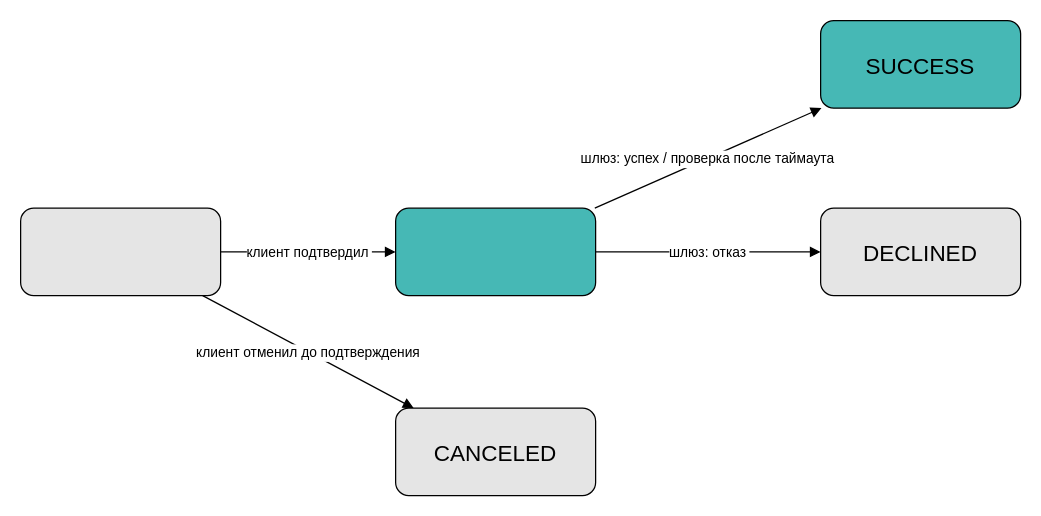
The diagram is 1041 pixels wide and 516 high, and some of its shapes have lost their labels. Here are the shapes that lost their labels. From the top down, the box of each, then its label:
(19, 207, 221, 296): CREATED
(394, 207, 596, 296): PENDING
